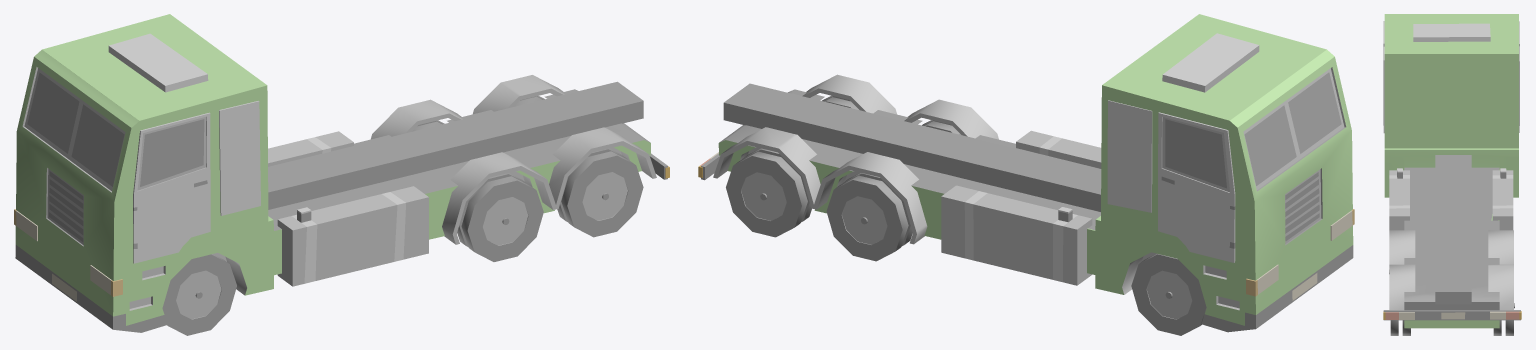
Rendered from kar5.fbx.
The picture shows the model from 3 angles, left to right: view 1: azimuth 30°, elevation 25°; view 2: azimuth 150°, elevation 25°; view 3: azimuth 270°, elevation 25°; orthographic projection. The views are drawn at different scales.
Visible parts, largest first — view 1: Cube_2, Extrude_1, Cylinder_4, Cylinder_3, Cylinder_1; view 2: Cube_2, Extrude_2, Cylinder_5, Cylinder, Cylinder_2; view 3: Cube_2, Cylinder, Cylinder_3, Extrude_1.
Boxes of the visible parts, <box> form: Cube_2: <box>14,14,669,332</box>; Extrude_1: <box>133,112,210,263</box>; Cylinder_4: <box>457,173,543,261</box>; Cylinder_3: <box>557,148,643,237</box>; Cylinder_1: <box>162,254,236,335</box>; Cube_2: <box>698,14,1354,332</box>; Extrude_2: <box>1158,112,1235,262</box>; Cylinder_5: <box>826,172,912,261</box>; Cylinder: <box>726,148,811,237</box>; Cylinder_2: <box>1131,253,1206,335</box>; Cube_2: <box>1383,14,1521,328</box>; Cylinder: <box>1493,303,1514,335</box>; Cylinder_3: <box>1390,320,1410,335</box>; Extrude_1: <box>1383,21,1384,125</box>.
Size of the model in its own units: 821 by 333 by 251.
